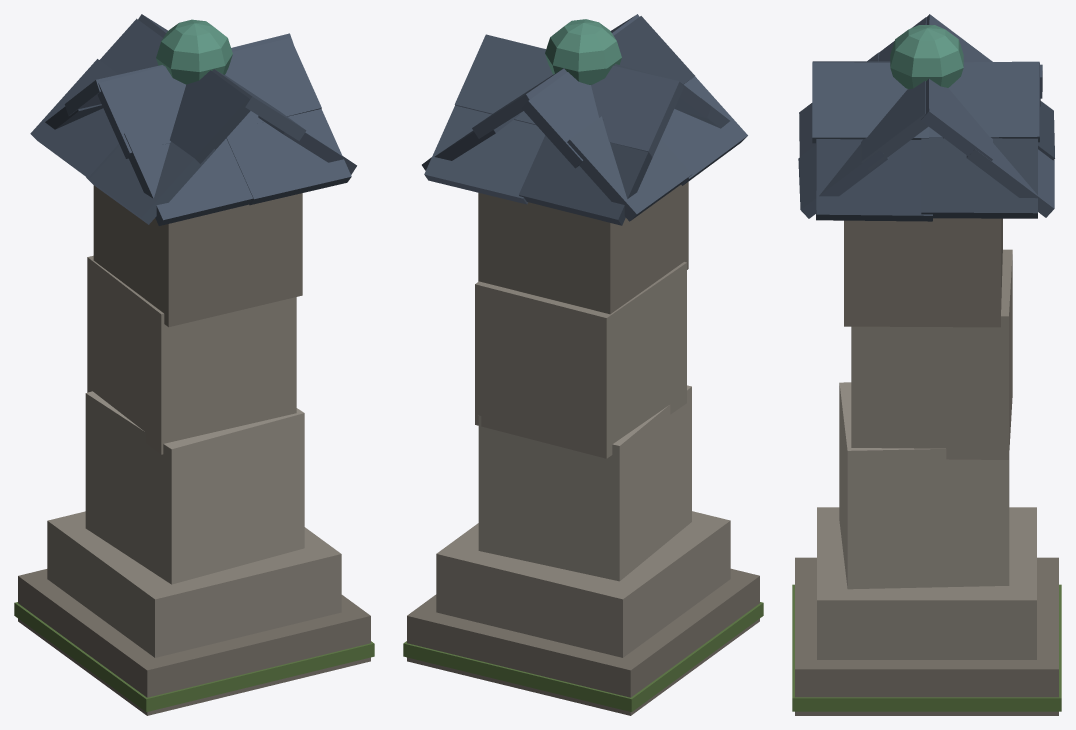
Rendered from fence_post.obj.
3 renders of one model, left to right at view 1: azimuth 30°, elevation 25°; view 2: azimuth 150°, elevation 25°; view 3: azimuth 270°, elevation 25°, orthographic. The views are drawn at different scales.
Bounding box in the file's own units: 0.3672 × 0.95 × 0.3672.
